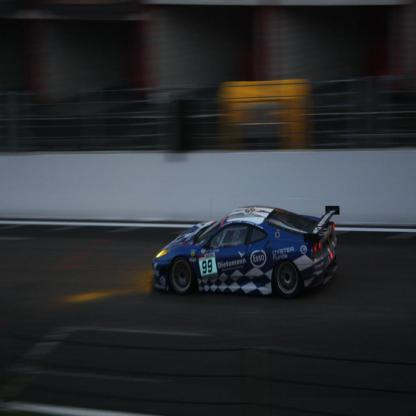Car: (152, 204, 339, 297)
